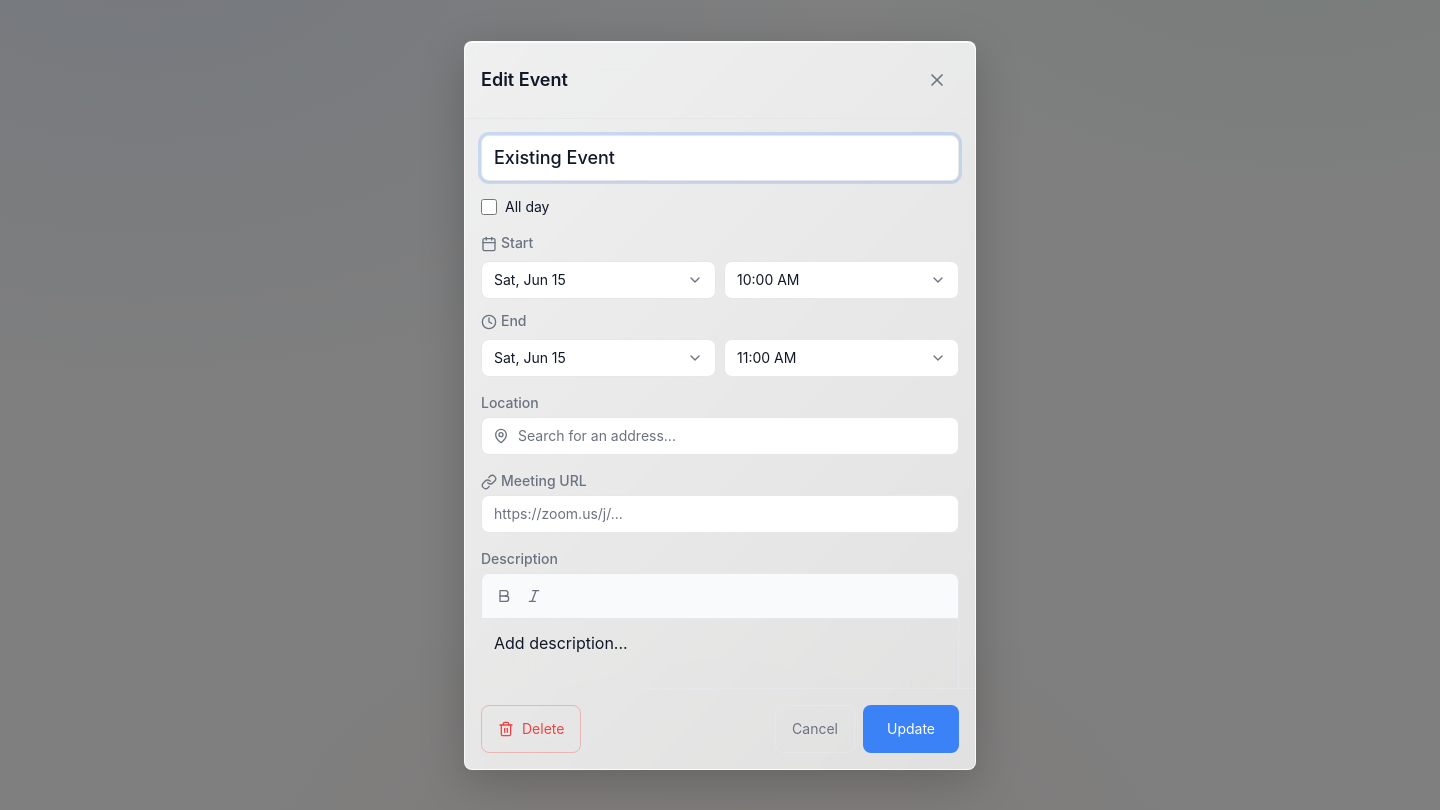
Test: EventModal › Delete Functionality › shows delete confirmation dialog when Delete is clicked
Step 1. Click the button "Delete" → {"x": 531, "y": 728}, box [481,704,581,752]
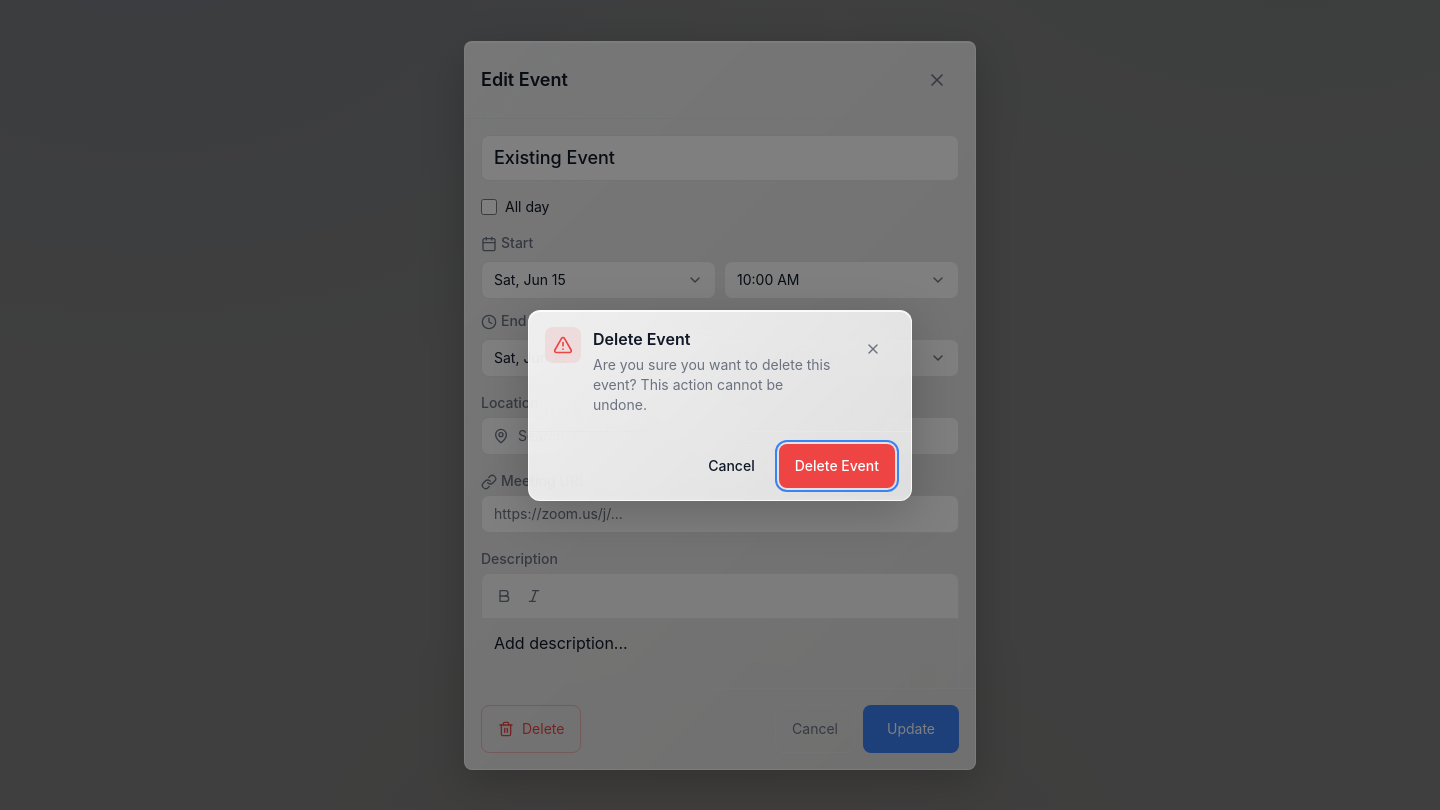
Expected: the text "Are you sure you want to delete this event" is shown, [593,356,830,412]
